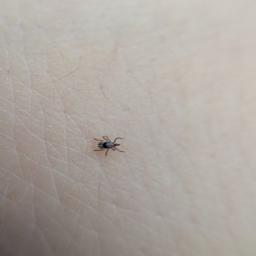Ixodes scapularis: (93, 135, 125, 156)
